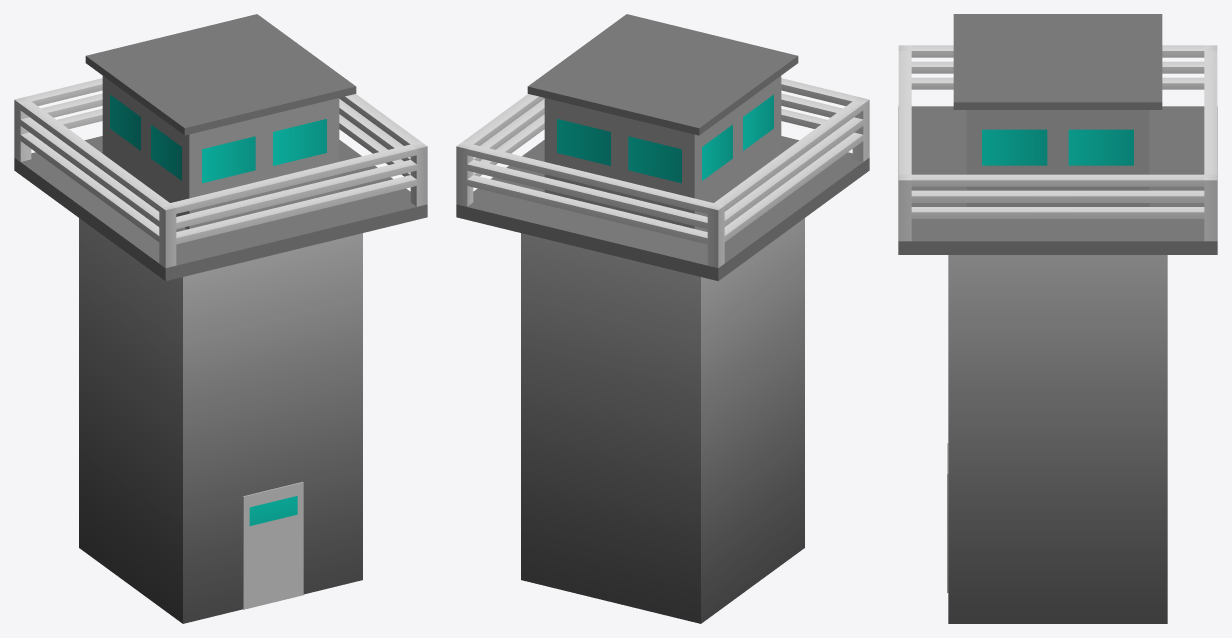
File: TA-sm-torre de control.fbx
3 renders of one model, left to right at view 1: azimuth 30°, elevation 25°; view 2: azimuth 150°, elevation 25°; view 3: azimuth 270°, elevation 25°, orthographic. The views are drawn at different scales.
Parts seen in each view (by area): view 1: TORRE2; view 2: TORRE2; view 3: TORRE2.
Boxes of the visible parts, <box> form: TORRE2: <box>14,14,427,623</box>; TORRE2: <box>456,14,869,623</box>; TORRE2: <box>898,14,1217,623</box>.
Size of the model in its own units: 7.29 by 13.09 by 7.29.
Materials: 1 (1 with a texture image).
